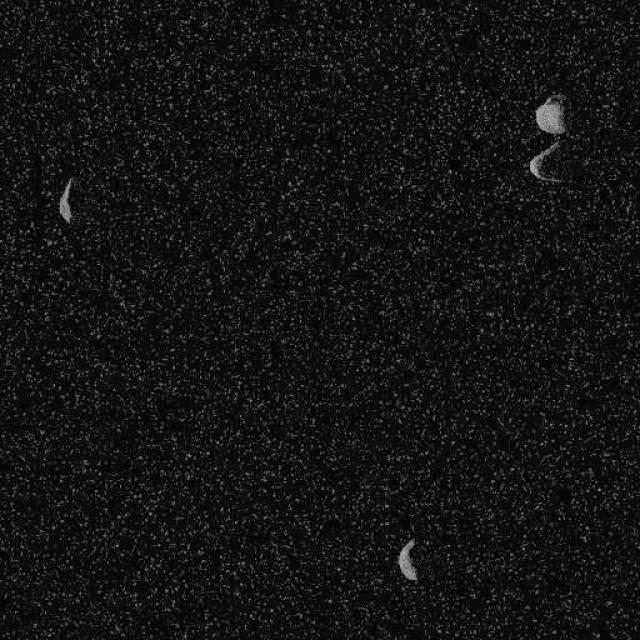D2: (527, 138, 565, 182), (534, 91, 566, 135), (397, 538, 418, 582), (58, 176, 74, 222)
